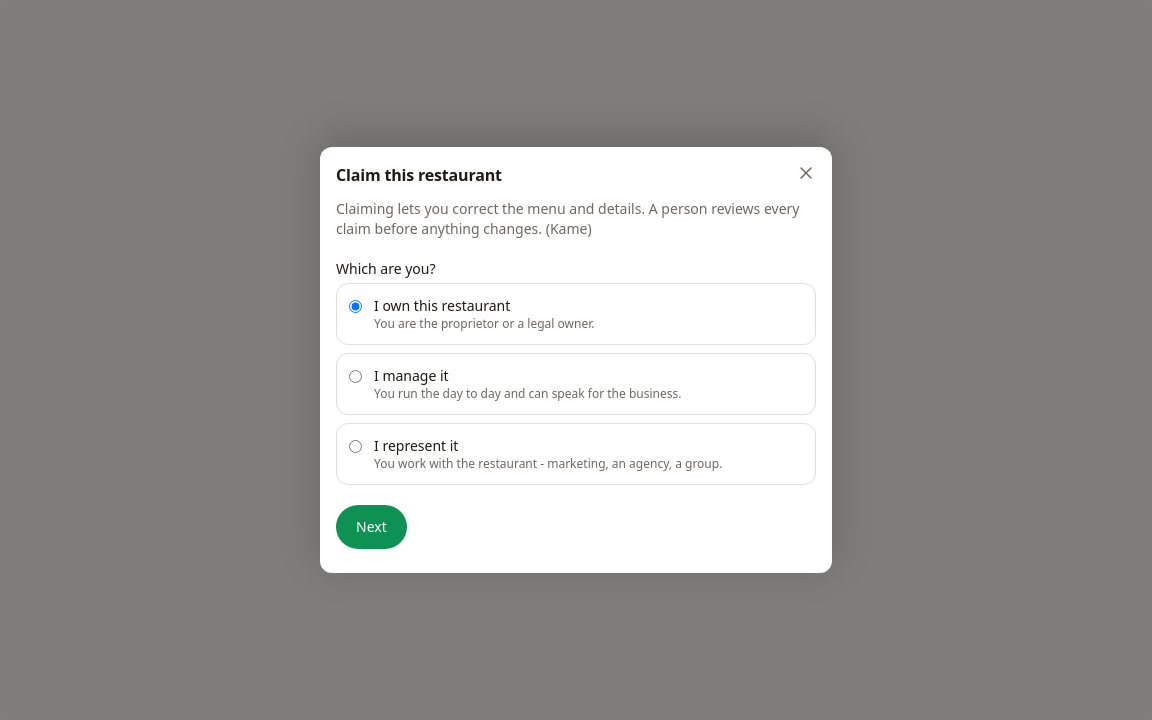
Test: submitting › refuses without a name rather than sending a claim nobody can check
The width and height of the screenshot is (1152, 720).
Expected: the text "Which are you?" is shown, [336,259,436,279]
Click the button "Next".
click(371, 527)  # box [336,505,407,549]
(page scrolled)
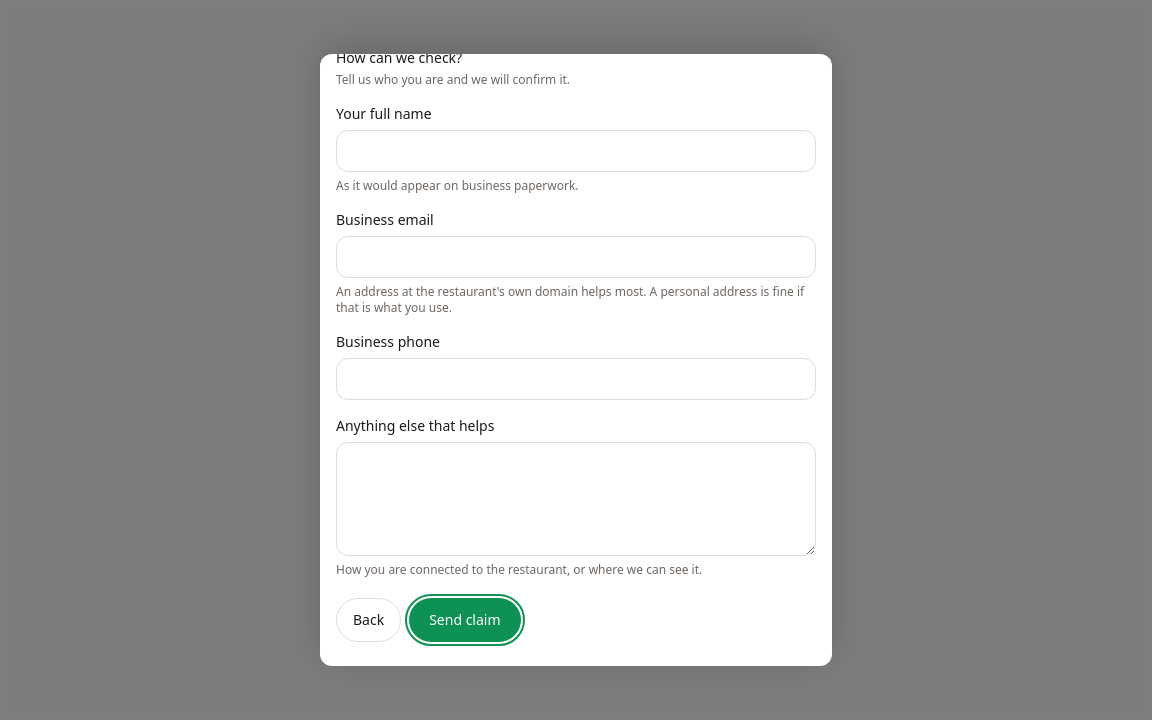
Click the button "Send claim".
click(465, 620)  # box [409,598,521,642]
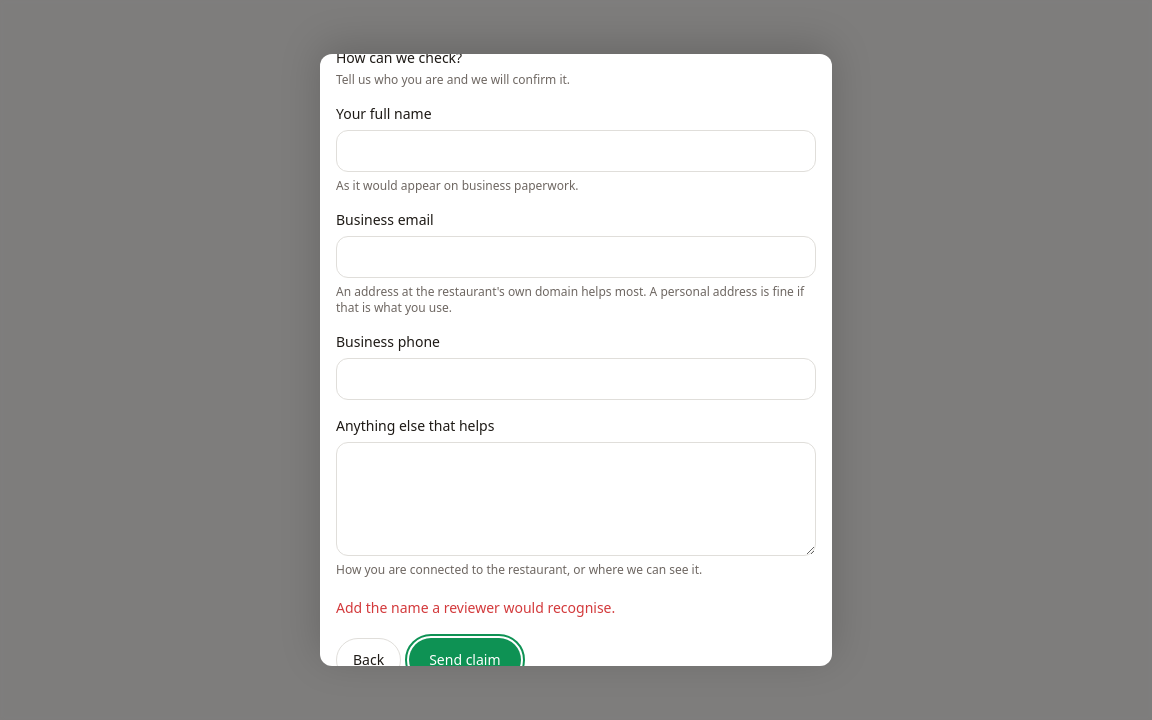
Expected: the message reads "Add the name a reviewer would recognise.", [336,598,615,617]
